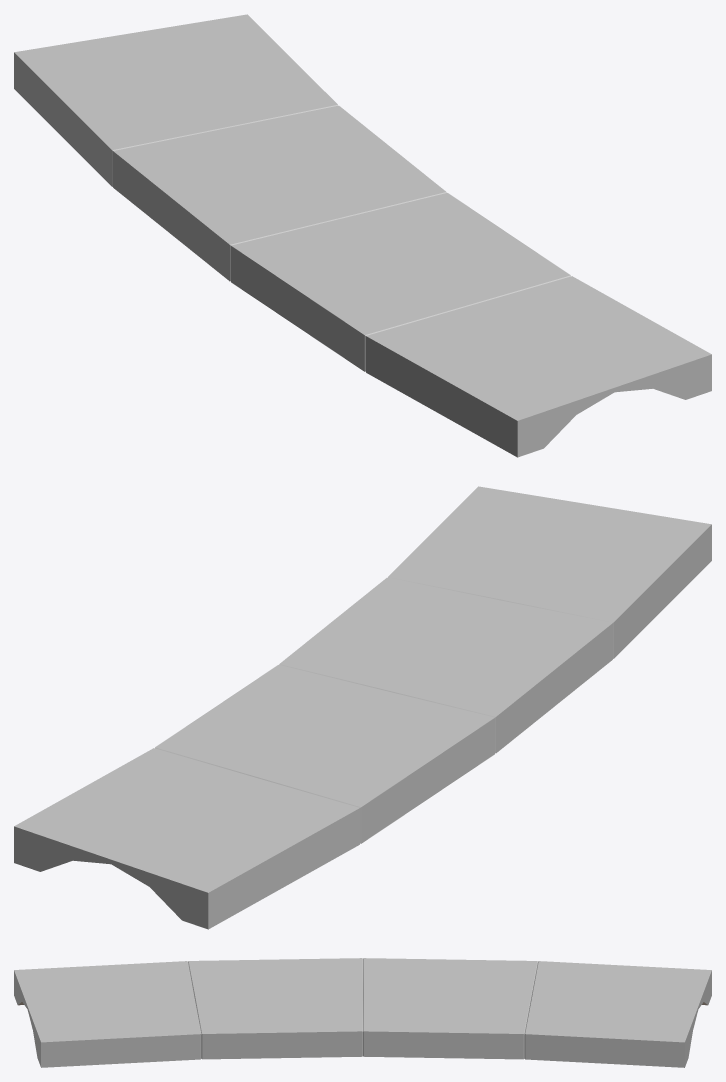
File: STAI_T2_Ceiling.fbx
3 views of the same model, one above another, from view 1: azimuth 30°, elevation 25°; view 2: azimuth 150°, elevation 25°; view 3: azimuth 270°, elevation 25° (orthographic). The views are drawn at different scales.
Parts seen in each view (by area): view 1: STAI_T2_Ceiling; view 2: STAI_T2_Ceiling; view 3: STAI_T2_Ceiling.
Boxes of the visible parts, <box> form: STAI_T2_Ceiling: <box>14,14,711,457</box>; STAI_T2_Ceiling: <box>14,486,711,929</box>; STAI_T2_Ceiling: <box>14,958,711,1067</box>.
Size of the model in its own units: 5.87 by 0.8247 by 20.53.
